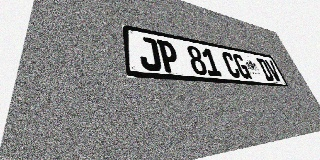1: (200, 47, 222, 77)
8: (185, 45, 208, 76)
C: (221, 51, 242, 78)
D: (256, 58, 275, 81)
G: (232, 53, 252, 79)
J: (137, 36, 162, 72)
P: (156, 39, 181, 73)
V: (264, 59, 283, 82)
